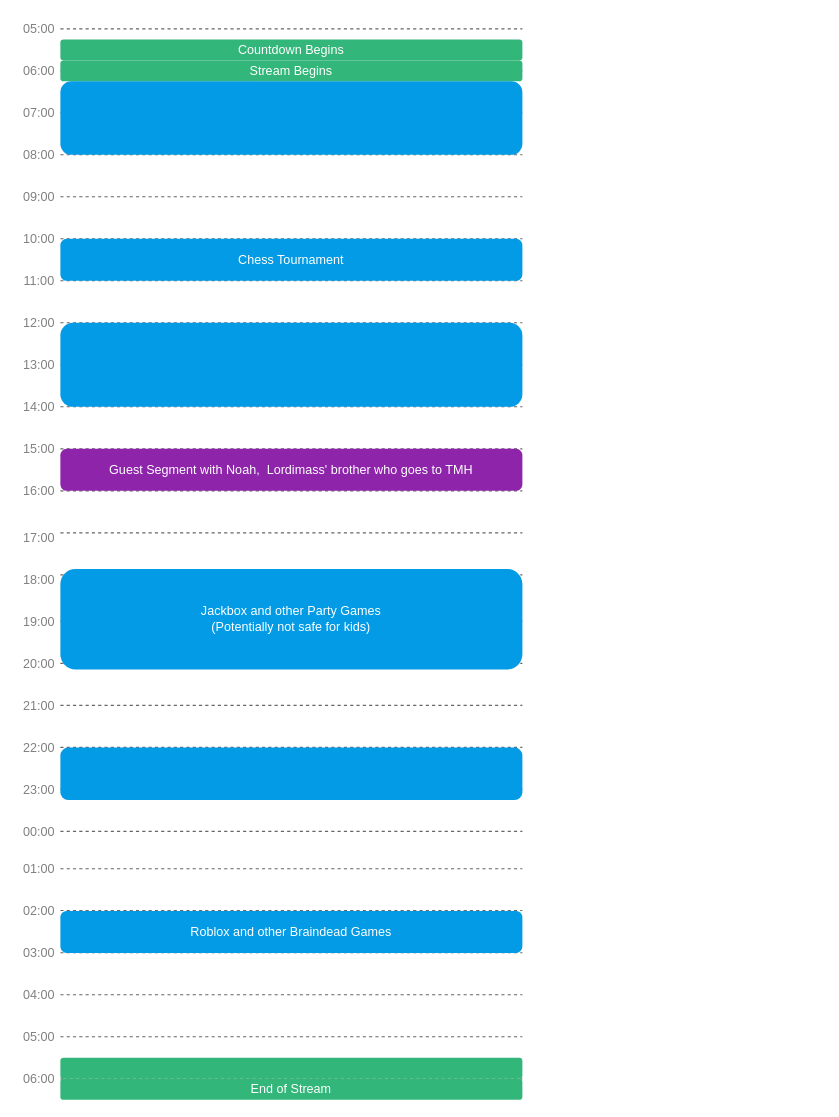
Image size: 839x1117. Some labels were removed from this diagram. The shapes that lost their labels are listed below. From the top down, each one's centre as x and y in pixels, then its label:
the point at 291,117: Minecraft Server Launch
the point at 291,364: D&D One-shot Campaign
the point at 291,773: Tetris Tournament
the point at 291,1067: Meet up and Debrief
